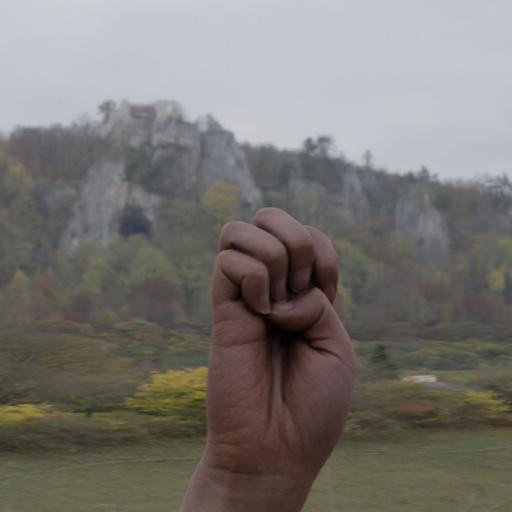E: (202, 205, 364, 469)
